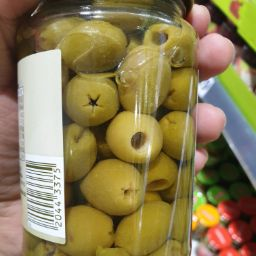Olives: (71, 73, 177, 238), (36, 20, 172, 113), (68, 125, 160, 256), (125, 97, 192, 240), (78, 158, 146, 215), (55, 22, 129, 72), (102, 108, 166, 162), (116, 210, 180, 254), (69, 73, 122, 126), (73, 199, 122, 256)
